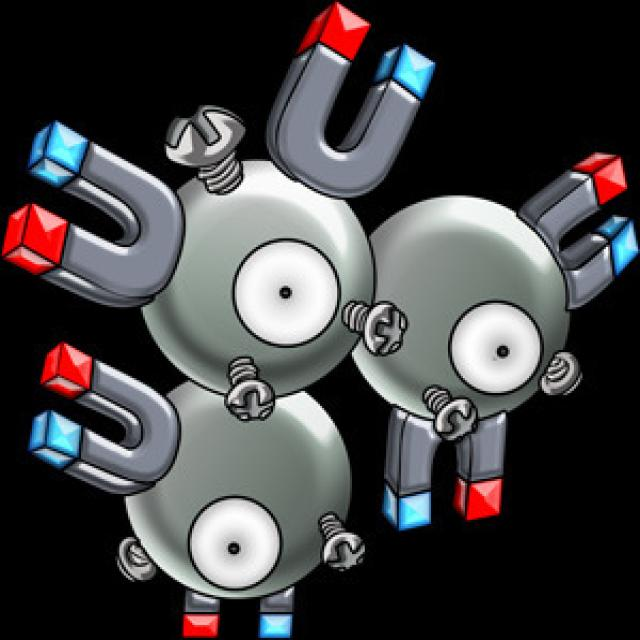Magneton: (52, 54, 592, 638)
